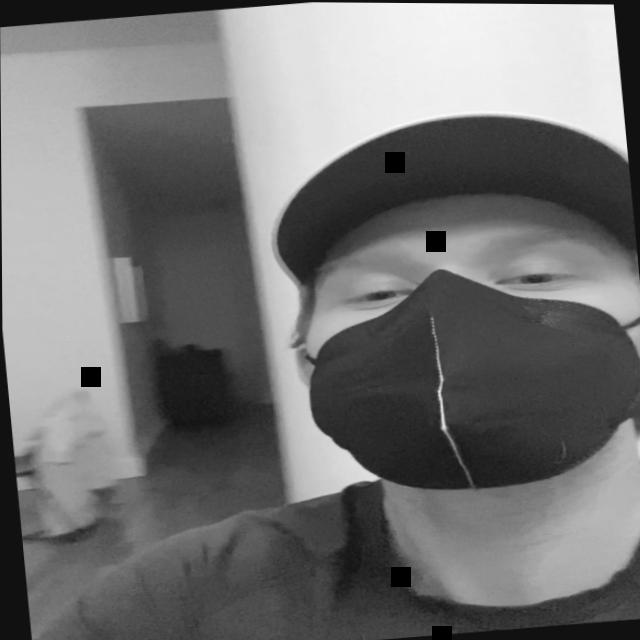Mask: (296, 189, 640, 502)
